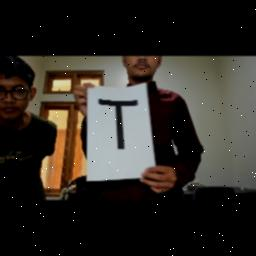t: (94, 95, 144, 155)
